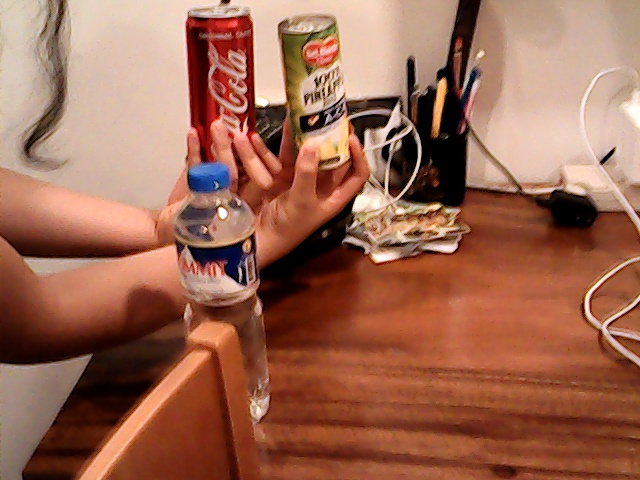Cola: (178, 1, 268, 156)
Pine Juice: (269, 5, 364, 178)
Summit Water: (165, 154, 276, 380)
